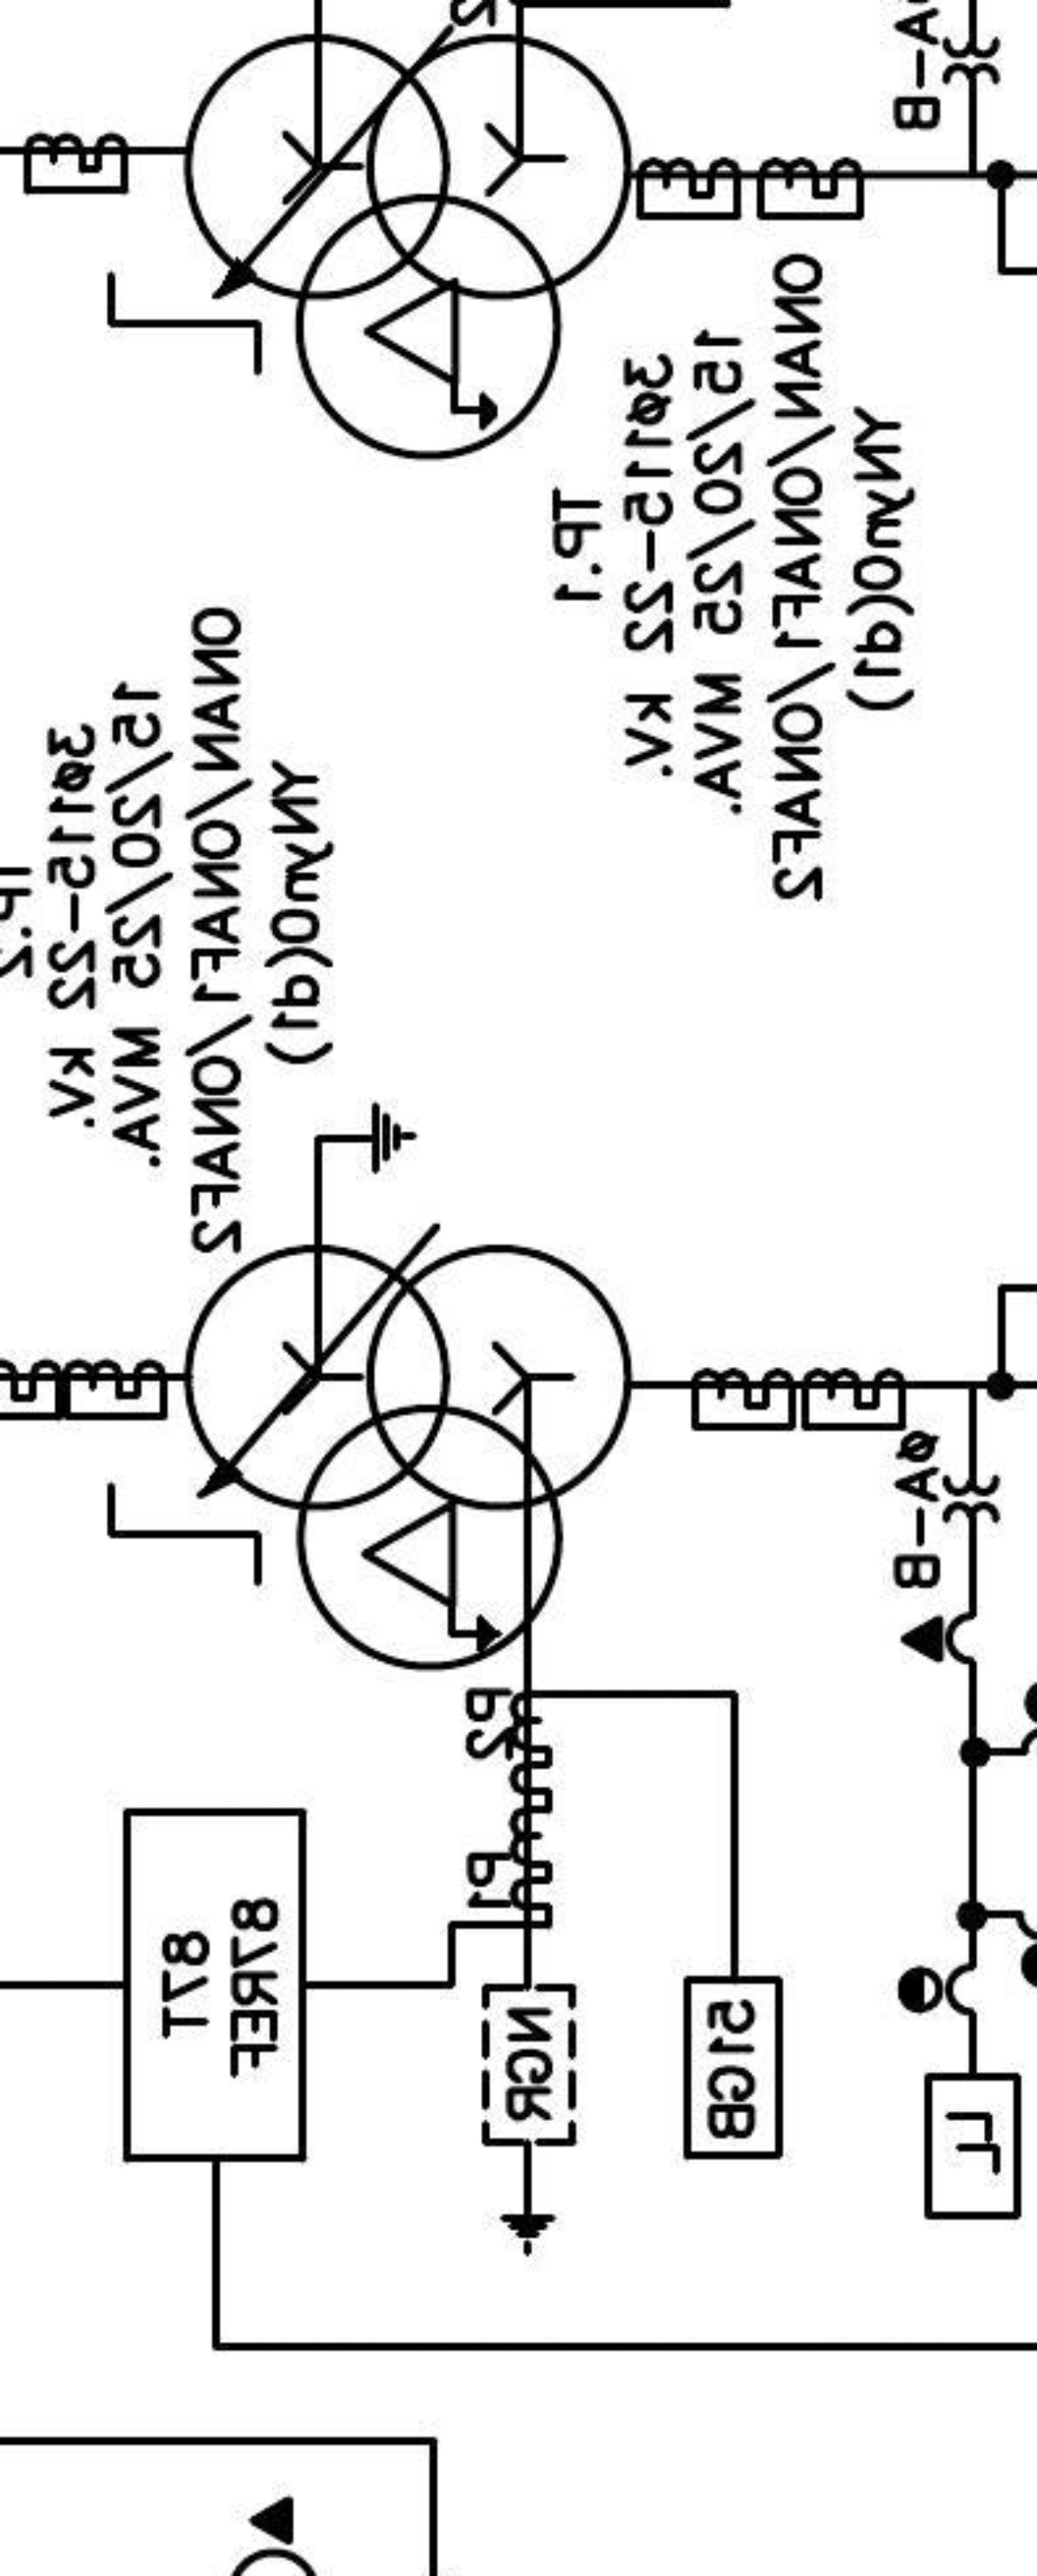11522_tx_ynyn0d1: (181, 31, 634, 463), (181, 1242, 634, 1674)
LL: (924, 2070, 1022, 2221)
NGR_future: (480, 1981, 578, 2259)
